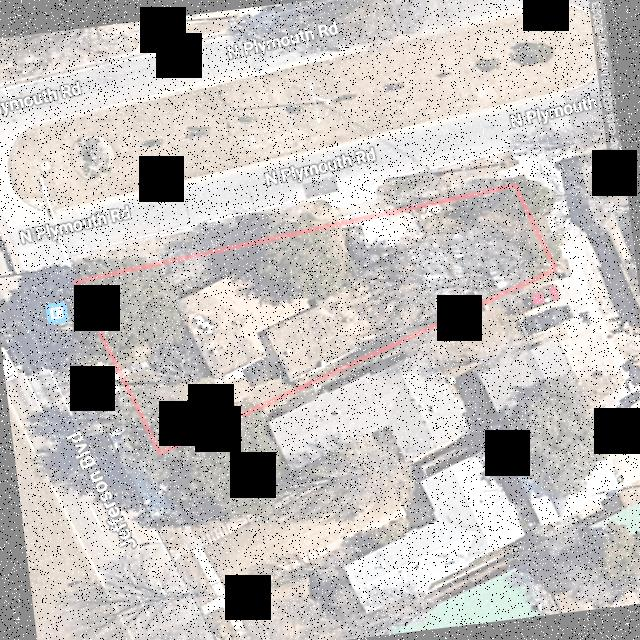Driveway: (342, 210, 426, 266)
Extra Driveway: (316, 183, 378, 215)
Extra Lawn: (75, 361, 124, 432), (278, 198, 340, 224), (100, 235, 172, 256), (537, 215, 552, 242)
Extra Sidewalk: (96, 360, 121, 392)
House: (266, 233, 469, 381)
Other: (179, 246, 315, 381)
Sidewalk: (120, 355, 151, 373)
